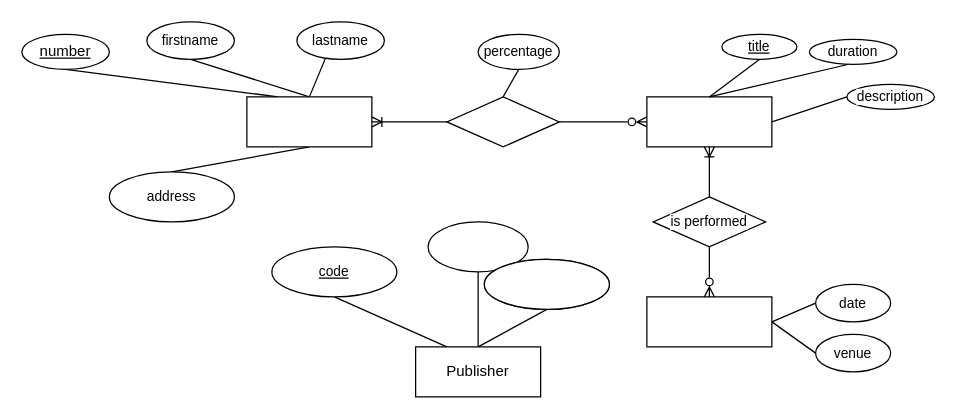
This 956x419 diagram has some shape labels left out. The shapes that lost their labels are listed below. From the top down, each one's centre as x and y in pixels, then its label:
At [309,121]: "Writer".
At [502,121]: "writes".
At [709,121]: "Work".
At [477,246]: "name".
At [546,283]: "Attribute".
At [709,321]: "Concert".
